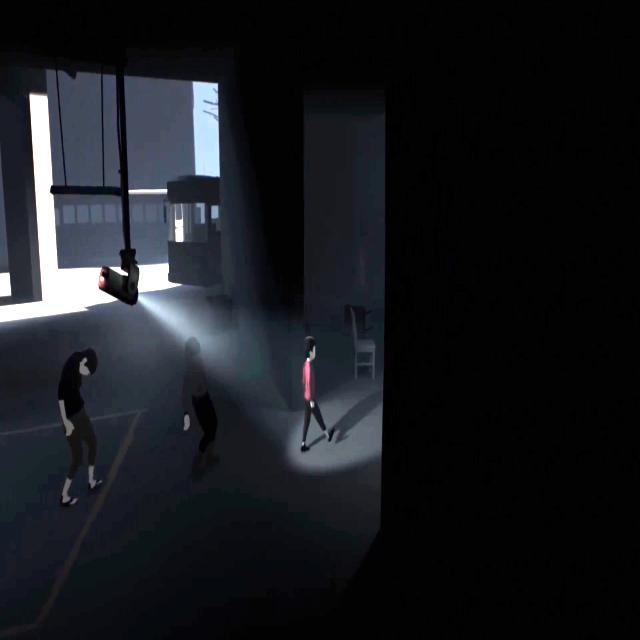boy: (300, 337, 334, 454)
zombie: (58, 348, 104, 506), (183, 336, 220, 478)
